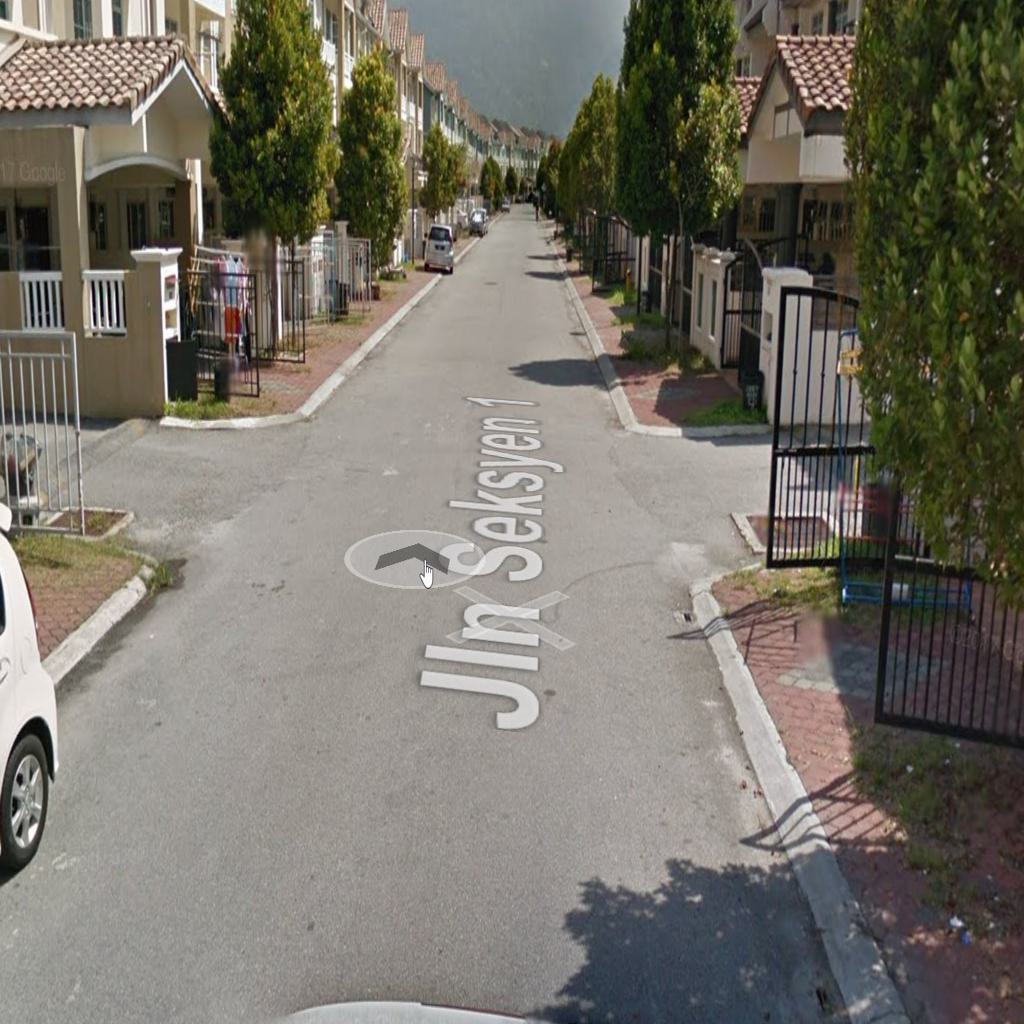Junction: (12, 376, 330, 603), (594, 390, 865, 604)
